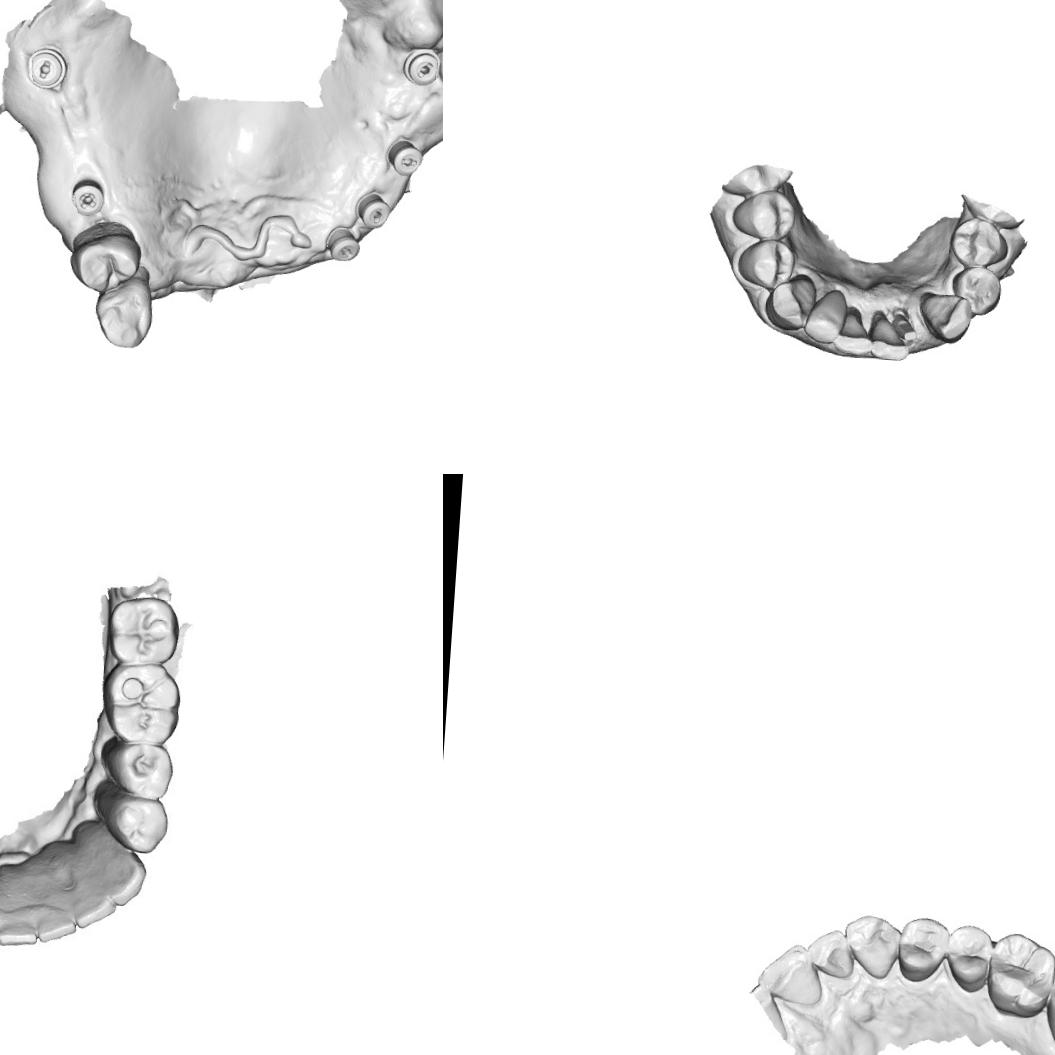abutment: (890, 305, 918, 342)
canine: (89, 273, 157, 351), (840, 911, 904, 981), (92, 843, 148, 906), (762, 274, 818, 332), (916, 291, 972, 345)
implant_minus: (22, 43, 70, 90), (401, 45, 442, 86), (384, 137, 425, 178), (352, 188, 392, 229), (324, 224, 362, 262)
implant_plus: (68, 176, 106, 218)
incisor: (754, 939, 824, 1007), (29, 892, 86, 946), (805, 926, 857, 980), (802, 286, 849, 344), (70, 882, 124, 931), (0, 895, 40, 948), (830, 308, 874, 356), (868, 334, 910, 362)
molar: (98, 660, 182, 748), (982, 929, 1055, 1021), (106, 594, 184, 668)
premolar: (65, 225, 144, 294), (942, 920, 994, 994), (111, 792, 171, 856), (728, 186, 796, 241), (894, 915, 948, 984), (112, 741, 175, 799), (734, 235, 797, 290), (948, 215, 1011, 269), (948, 264, 1004, 316)
